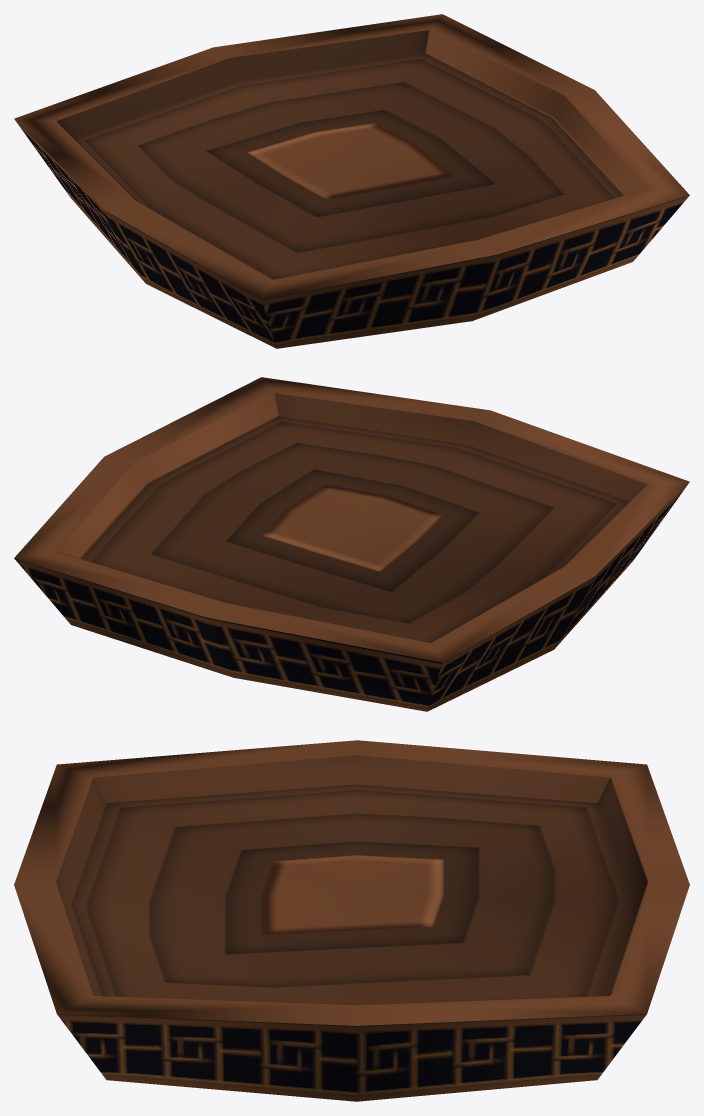
The model's file is MESH_AMB05_Plateform.fbx.
3 views of the same model, one above another, from view 1: azimuth 30°, elevation 25°; view 2: azimuth 150°, elevation 25°; view 3: azimuth 270°, elevation 25° (orthographic). The views are drawn at different scales.
Parts seen in each view (by area): view 1: pCube1; view 2: pCube1; view 3: pCube1.
Boxes of the visible parts, <box> form: pCube1: <box>14,14,689,348</box>; pCube1: <box>14,377,689,711</box>; pCube1: <box>14,740,689,1101</box>.
Size of the model in its own units: 4.85 by 0.8311 by 4.85.
Materials: 1 (1 with a texture image).
